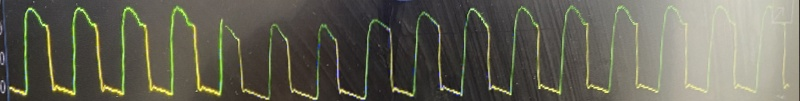normal_pressure: (1, 0, 783, 101)
